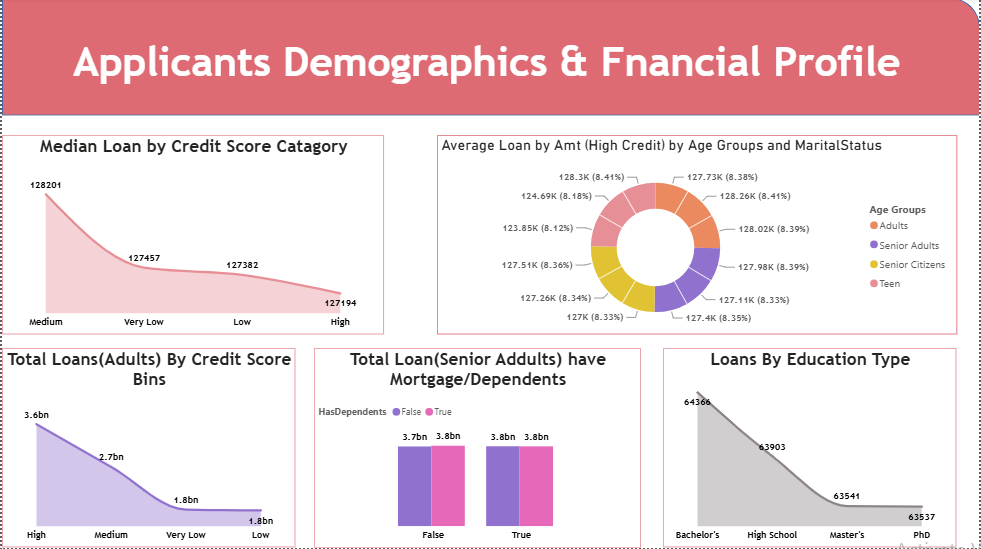

This screenshot's page, from the dashboard's own definition file:
{"tool":"powerbi","page":{"name":"Applicants Demographics & Fnancial Profile","canvas":[1280,720],"ordinal":1},"visuals":[{"type":"shape","box":[0,0,1280,153.8],"z":0},{"type":"lineChart","title":"Median Loan by Credit Score Catagory","fields":{"Category":["Loan_default.Credit Score Bins"],"Y":["MeasuresTable 2.Median by Credit Score and Bins"]},"box":[0,179.2,500.4,261.4],"z":1000},{"type":"donutChart","fields":{"Y":["MeasuresTable 2.Average Loan by Amt (High Credit)"],"Series":["Loan_default.MaritalStatus"],"Category":["Loan_default.Age Groups"]},"box":[569.1,179.2,681.1,261.4],"z":2000},{"type":"lineChart","title":"Total Loans(Adults) By Credit Score Bins","fields":{"Category":["Loan_default.Credit Score Bins"],"Y":["MeasuresTable 2.Total Loan(Credit Bins)"]},"box":[0,458.5,383.9,261.4],"z":3000},{"type":"clusteredColumnChart","title":"Total Loan(Senior Addults) have Mortgage/Dependents","fields":{"Y":["MeasuresTable 2.Total Loan(Senior Adults)"],"Category":["Loan_default.HasMortgage"],"Series":["Loan_default.HasDependents"]},"box":[409,457.9,427.7,262.1],"z":4000},{"type":"lineChart","title":"Loans By Education Type","fields":{"Y":["MeasuresTable 2.Loans By Education Type"],"Category":["Loan_default.Education"]},"box":[865.4,457.9,383.9,261.4],"z":5000}]}

Visuals, with their boxes in screenshot pixels (x1, y1, x2, y2), scaled from the page's 1280x720 canvas onto the 981x549 screenshot:
shape: detection(0, 0, 980, 117)
"Median Loan by Credit Score Catagory" lineChart: detection(0, 137, 384, 336)
donutChart - MeasuresTable 2.Average Loan by Amt (High Credit) x Loan_default.MaritalStatus: detection(436, 137, 958, 336)
"Total Loans(Adults) By Credit Score Bins" lineChart: detection(0, 350, 294, 548)
"Total Loan(Senior Addults) have Mortgage/Dependents" clusteredColumnChart: detection(313, 349, 641, 548)
"Loans By Education Type" lineChart: detection(663, 349, 957, 548)
